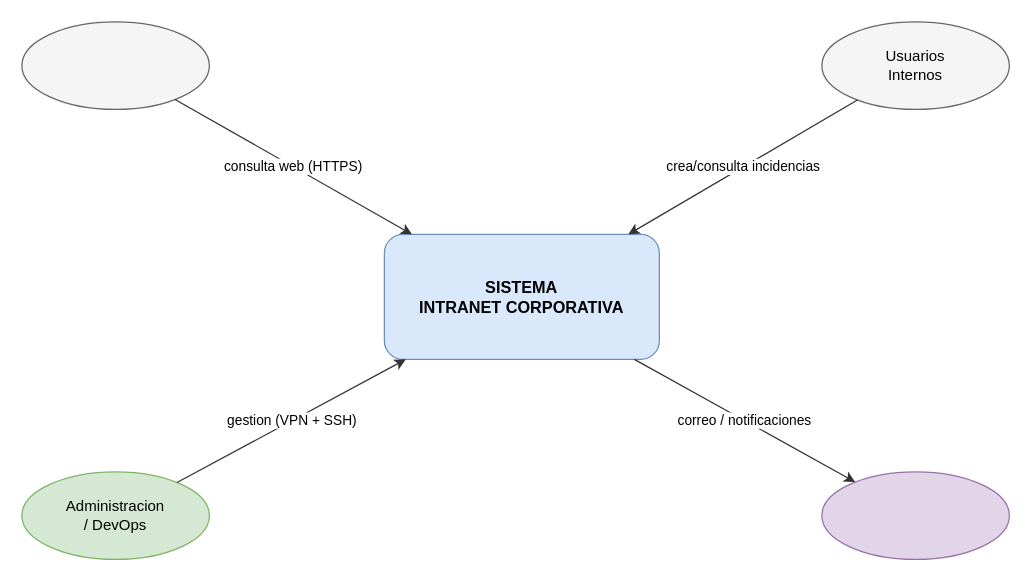
Some shapes in this 1031 by 581 pixel diagram are drawn without their labels. The shapes that lost their labels are listed below. From the top down, each one's centre as x and y in pixels, then its label:
point (115, 65): Usuarios Externos
point (915, 515): Otros sistemas externos
